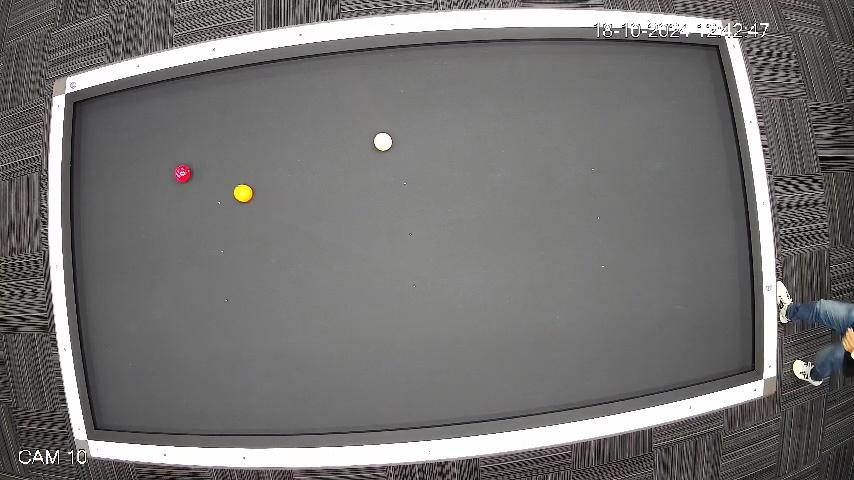Red: (173, 163, 194, 184)
White: (372, 130, 394, 152)
Yellow: (232, 183, 255, 204)
